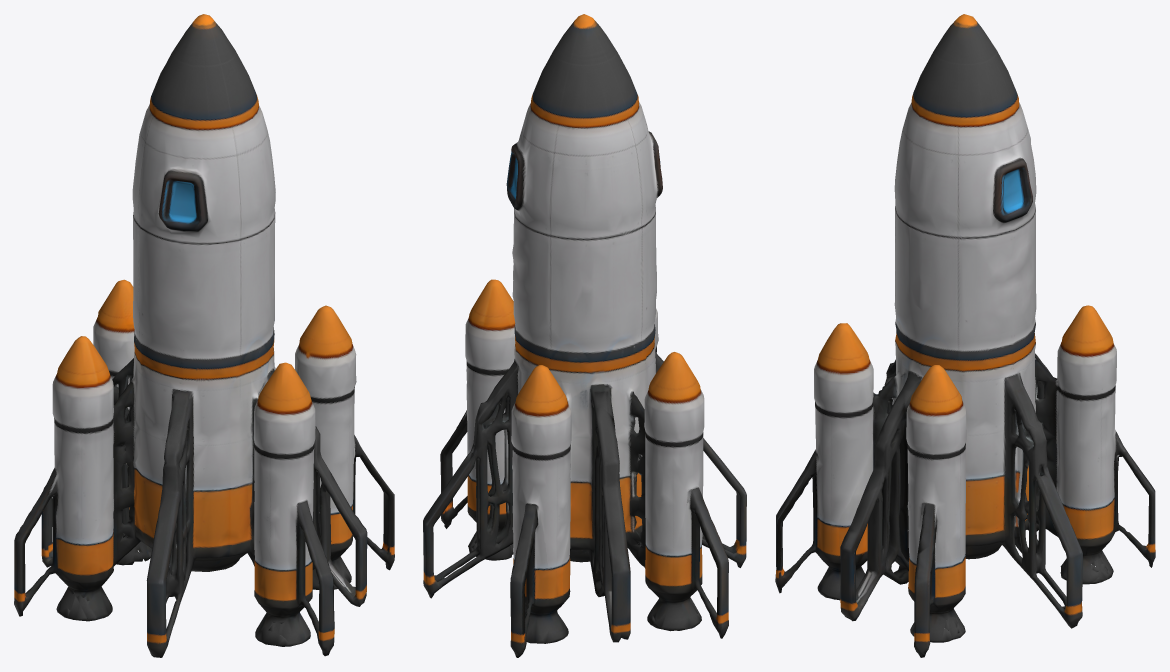
The model's file is white_mesh.fbx.fbx.
3 views of the same model, side by side, from view 1: azimuth 30°, elevation 25°; view 2: azimuth 150°, elevation 25°; view 3: azimuth 270°, elevation 25° (orthographic). The views are drawn at different scales.
Visible parts, largest first — view 1: tmpw50el6f8ply; view 2: tmpw50el6f8ply; view 3: tmpw50el6f8ply.
Part boxes in pixels (x1,y1,x2,y2): tmpw50el6f8ply: (14,14,394,657); tmpw50el6f8ply: (423,14,746,657); tmpw50el6f8ply: (775,14,1155,657).
Bounding box in the file's own units: 0.6005 × 1 × 0.6082.
